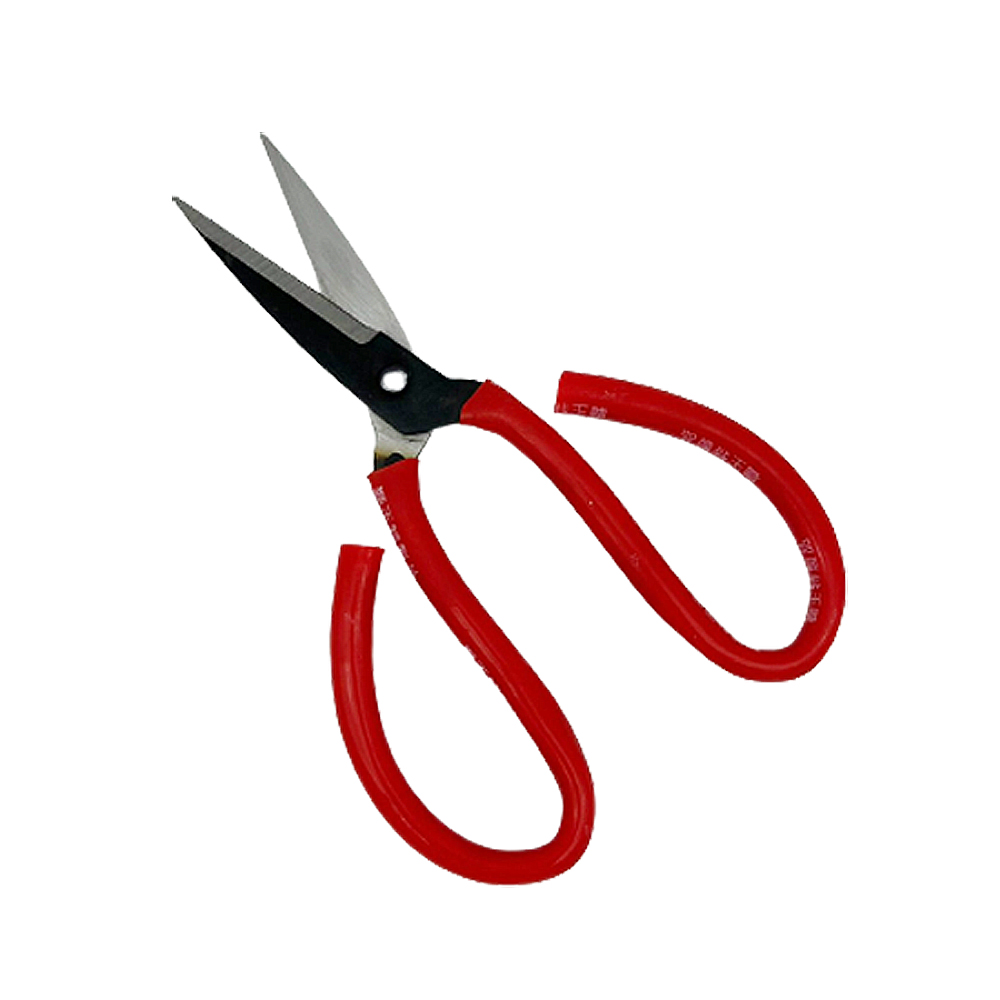scissors: (147, 130, 864, 894)
